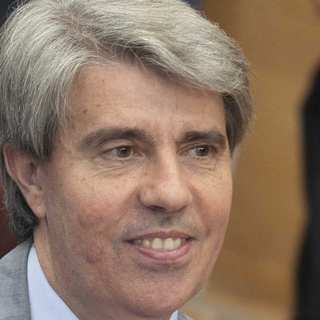eye: (98, 136, 146, 167), (176, 135, 221, 165)
